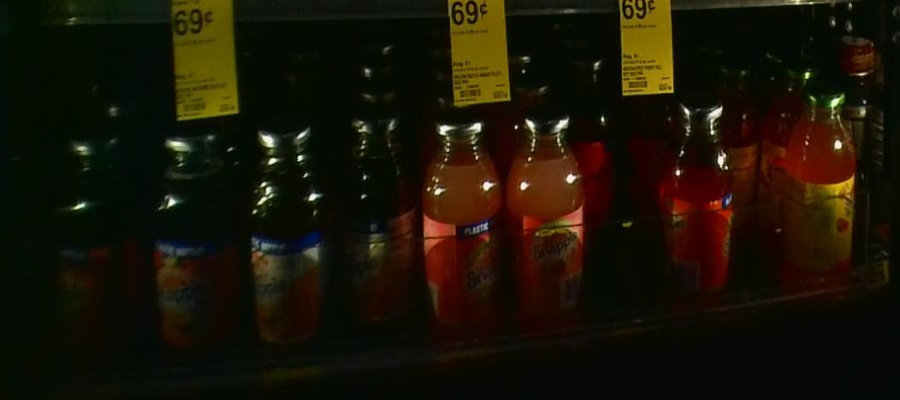bottle: (238, 109, 329, 381), (50, 111, 137, 384), (144, 117, 231, 381), (421, 94, 503, 351), (335, 87, 412, 359), (509, 87, 582, 355), (660, 80, 734, 299), (787, 79, 858, 290), (587, 49, 620, 229)
